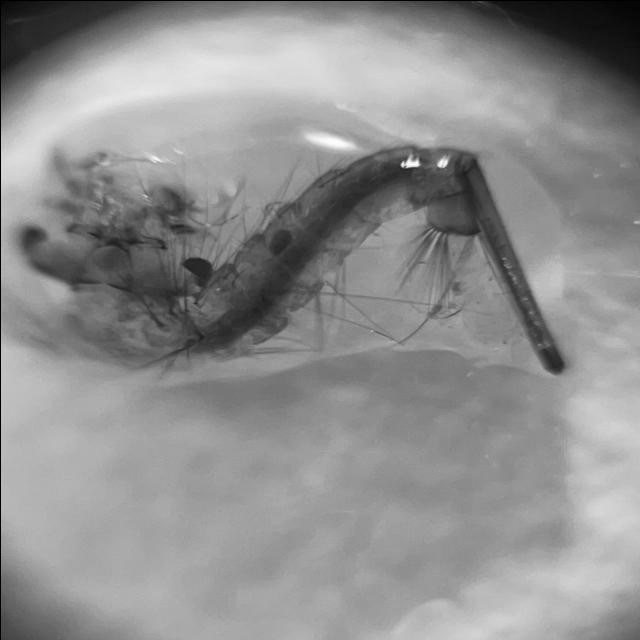larvas: (28, 147, 565, 378)
